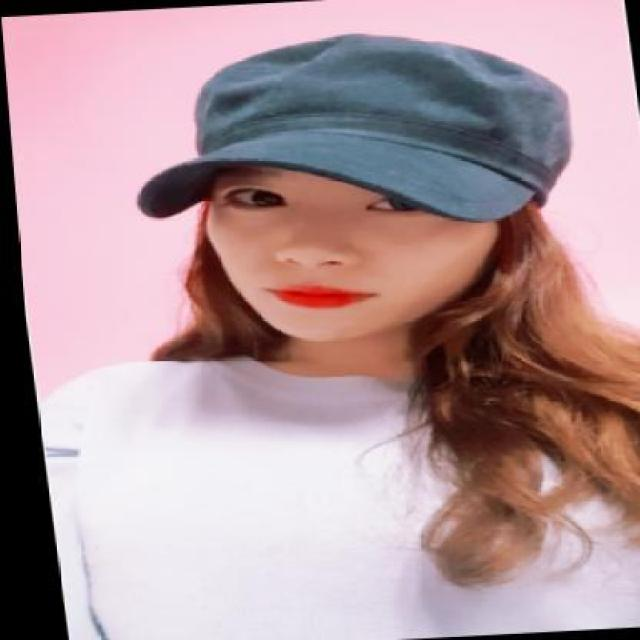hat: (106, 20, 592, 245)
